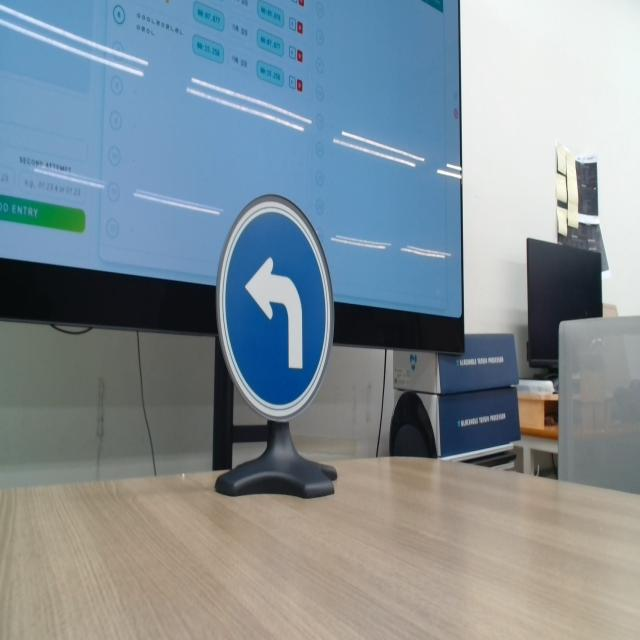left_direction: (210, 190, 338, 421)
